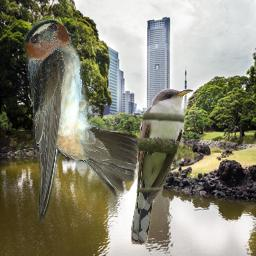Cuckoo: (131, 88, 195, 245)
Swallow: (23, 19, 139, 226)
